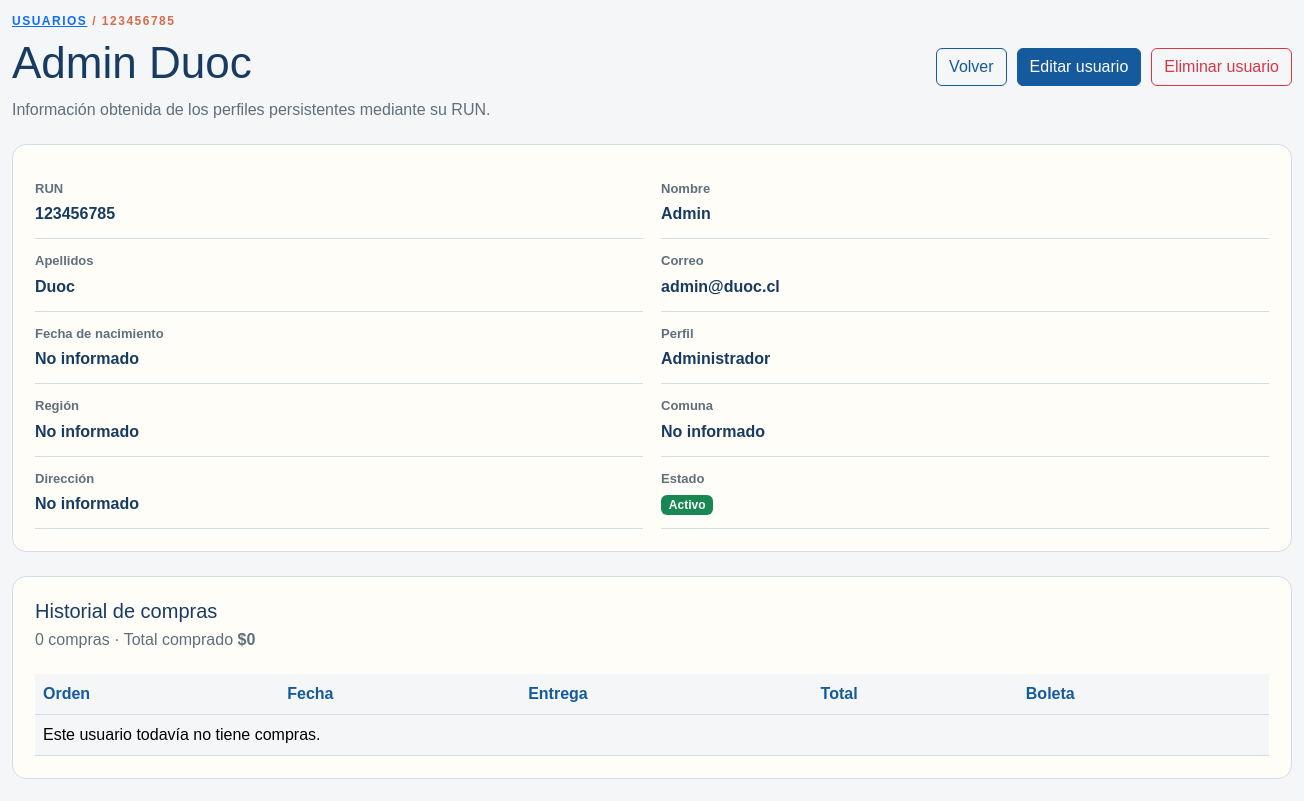
Test case: AdminUsuarioDetalleContainer › no permite eliminar el perfil con el que se inició sesión
Click the button "Eliminar usuario".
click(1222, 67)  # box [1151, 48, 1292, 86]
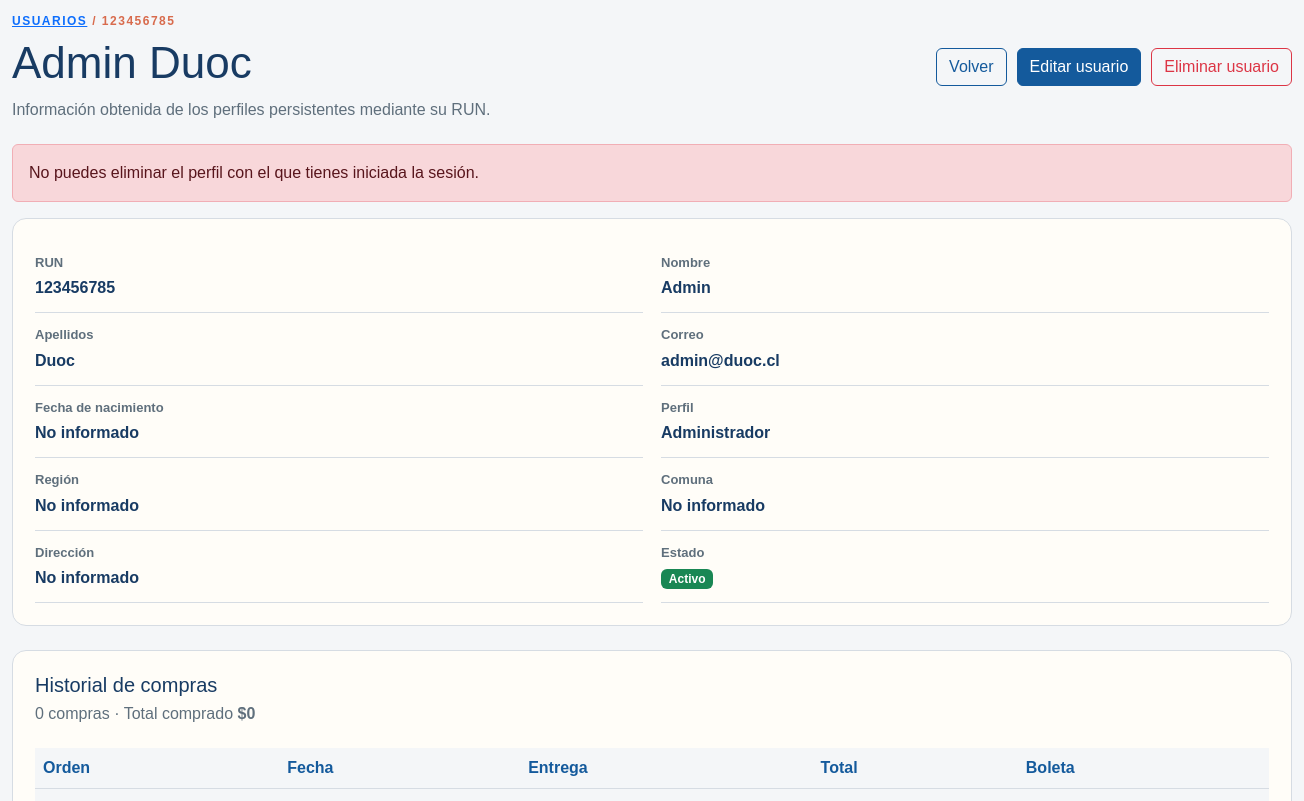
Expected: the message reads "No puedes eliminar el perfil con el que tienes iniciada la sesión.", [29, 164, 479, 181]
